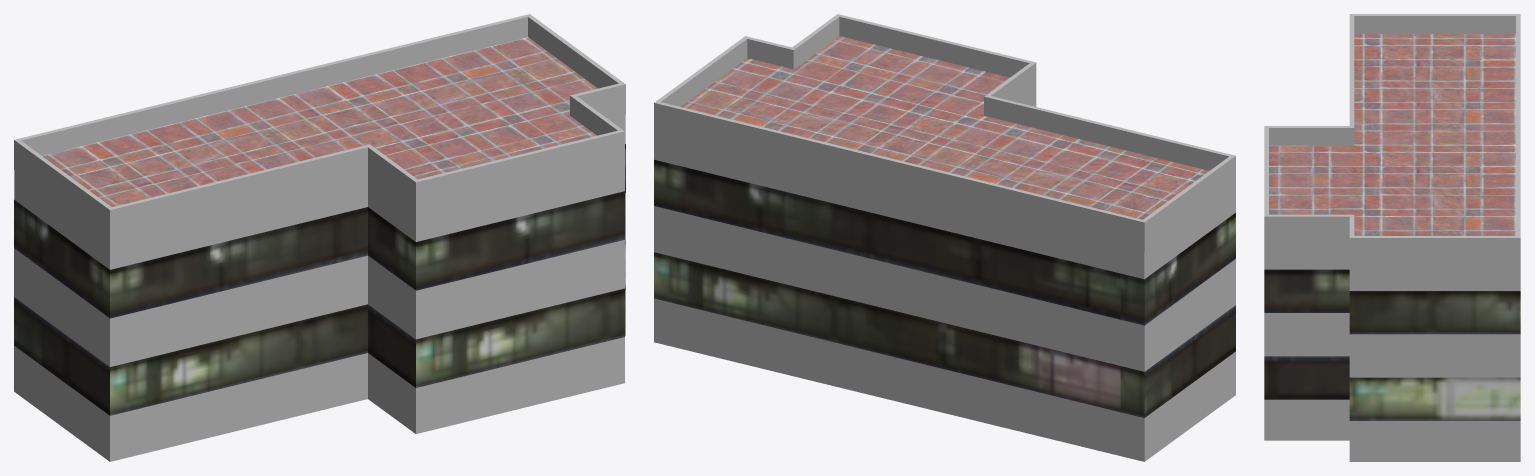
File: hirise_parts07_2f.fbx
3 views of the same model, side by side, from view 1: azimuth 30°, elevation 25°; view 2: azimuth 150°, elevation 25°; view 3: azimuth 270°, elevation 25° (orthographic). The views are drawn at different scales.
Parts seen in each view (by area): view 1: hirise_parts07_2f; view 2: hirise_parts07_2f; view 3: hirise_parts07_2f.
Part boxes in pixels (box(x1,y1,x2,y2)): hirise_parts07_2f: box(14, 14, 625, 461); hirise_parts07_2f: box(654, 14, 1235, 461); hirise_parts07_2f: box(1264, 14, 1520, 461).
Bounding box in the file's own units: 17.68 × 8.24 × 8.55.
